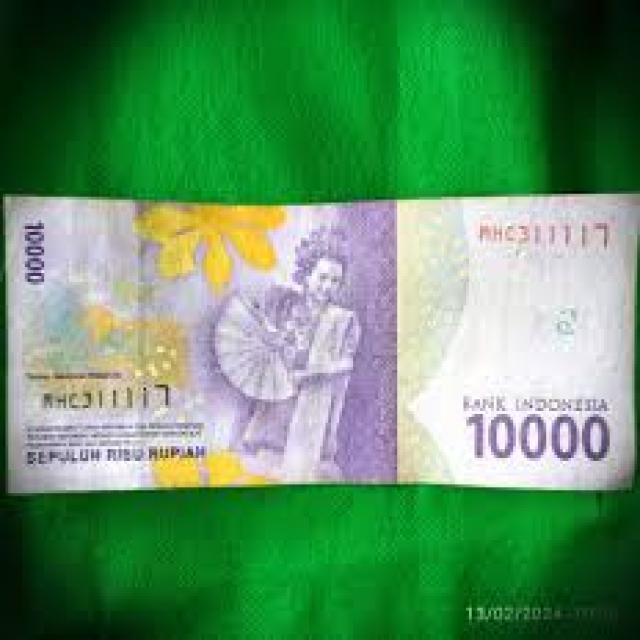sepuluh ribu rupiah: (7, 195, 635, 489)
